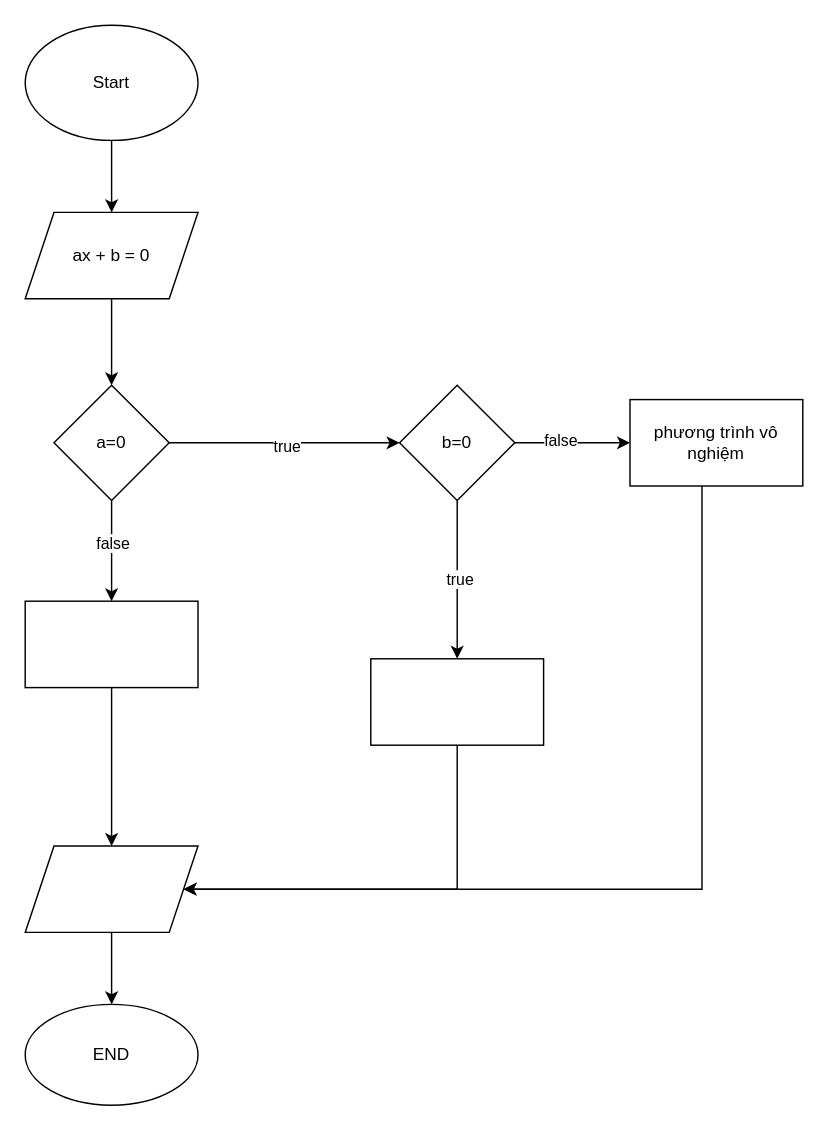
The diagram is 828 pixels wide and 1130 high, and some of its shapes have lost their labels. The shapes that lost their labels are listed below. From the top down, each one's centre as x and y in pixels, then its label:
the point at 111,644: x=-b/a
the point at 456,701: phương trình vô số nghiệm
the point at 111,888: in kết quả
